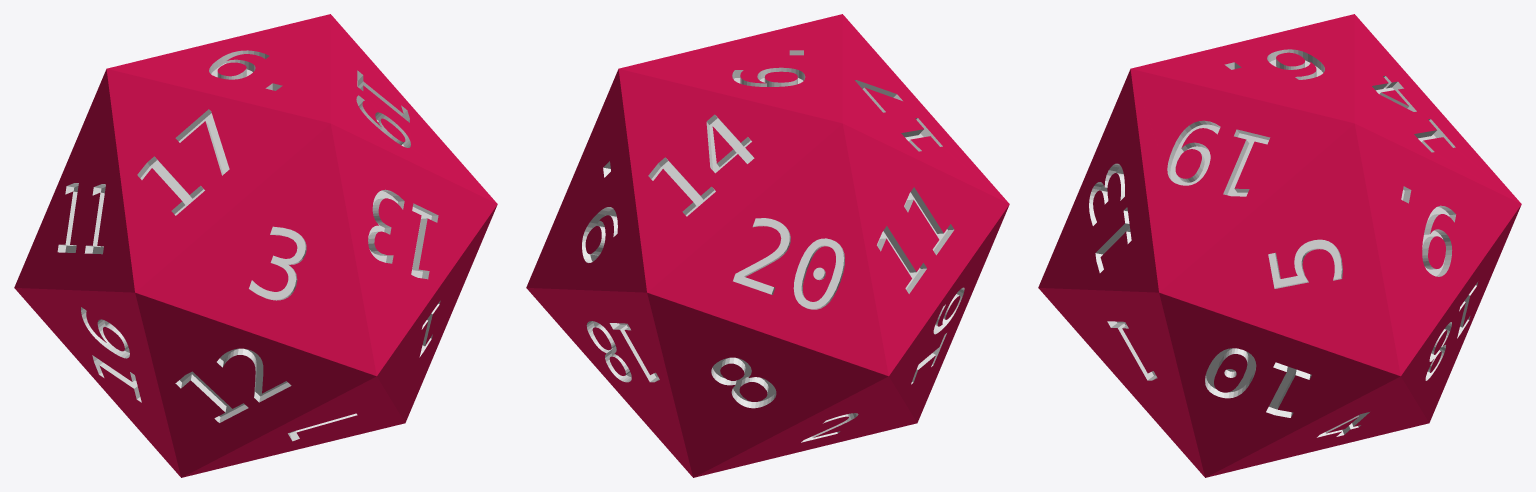
3 views of the same model, side by side, from view 1: azimuth 30°, elevation 25°; view 2: azimuth 150°, elevation 25°; view 3: azimuth 270°, elevation 25° (orthographic).
Parts seen in each view (by area): view 1: Mesh1 Component_1_1 Model; view 2: Mesh1 Component_1_1 Model; view 3: Mesh1 Component_1_1 Model.
Part boxes in pixels (x1,y1,x2,y2): Mesh1 Component_1_1 Model: [14, 14, 497, 477]; Mesh1 Component_1_1 Model: [526, 14, 1009, 477]; Mesh1 Component_1_1 Model: [1038, 14, 1521, 477].
Bounding box in the file's own units: 1.4 × 1.3 × 1.61.
